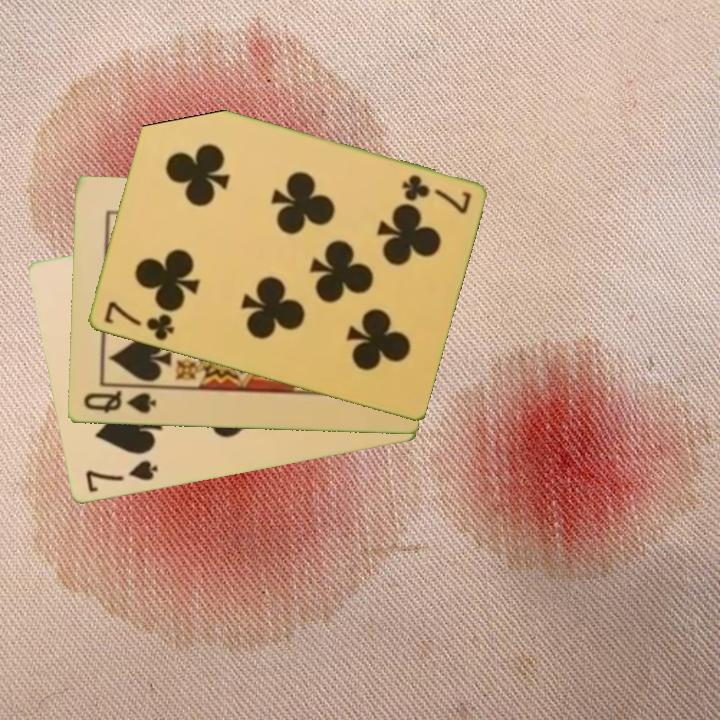7c: (100, 298, 177, 344), (398, 171, 474, 217)
7s: (81, 457, 160, 496)
Qs: (80, 387, 159, 417)
